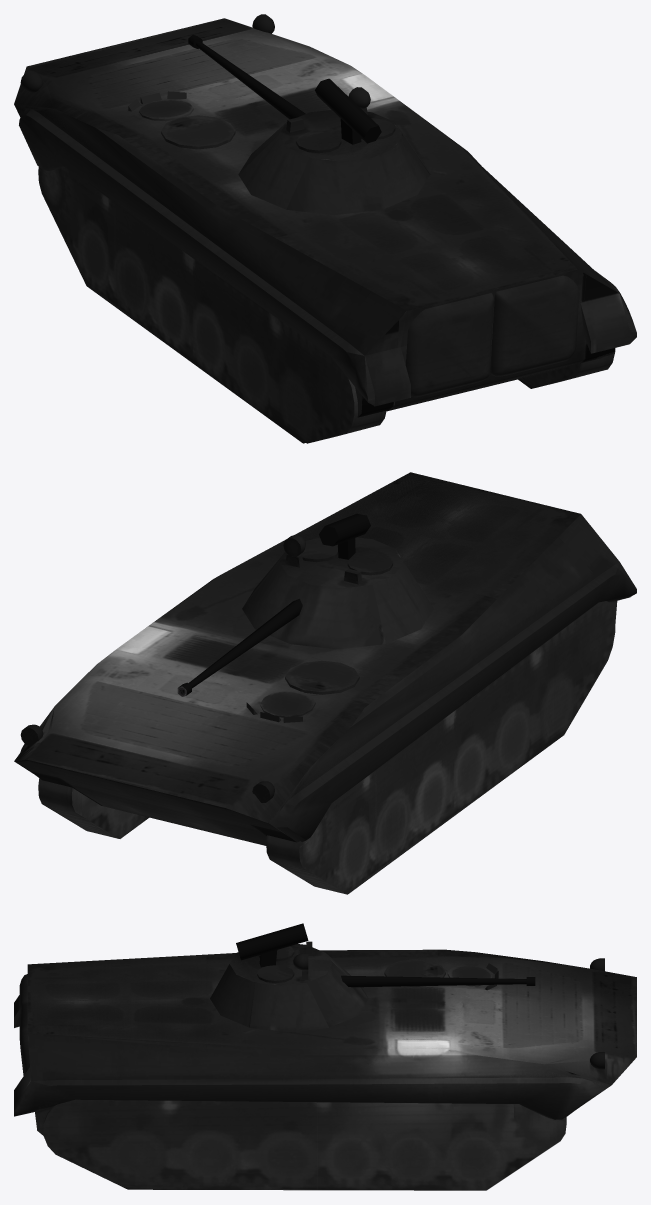
File: BMP-2_Graylevel.dae
The picture shows the model from 3 angles, top to bottom: view 1: azimuth 30°, elevation 25°; view 2: azimuth 150°, elevation 25°; view 3: azimuth 270°, elevation 25°; orthographic projection. The views are drawn at different scales.
Visible parts, largest first — view 1: hull, lft_cleat_6, hull_11, hull_19, turret_4, aft_door_01, aft_door_02, commander_coupola, aft_door_3, turret_8, agtm, aft_door_2 (+4 smaller); view 2: hull, lft_cleat_6, hull_11, turret_4, hull_19, rgt_cleat, commander_coupola, barrel_8, driver_coupola_1, agtm, lft_cleat_hi, rgt_cleat_4 (+4 smaller); view 3: hull, rgt_cleat_4, hull_11, hull_19, turret_4, barrel_8, agtm, commander_coupola, turret_8, aft_door_02, driver_coupola_27, driver_coupola_1.
Part boxes in pixels (x1,y1,x2,y2): hull: [14, 18, 636, 406]; lft_cleat_6: [38, 167, 382, 443]; hull_11: [14, 22, 614, 417]; hull_19: [213, 165, 619, 417]; turret_4: [238, 110, 430, 215]; aft_door_01: [405, 293, 494, 397]; aft_door_02: [490, 275, 579, 376]; commander_coupola: [161, 115, 235, 149]; aft_door_3: [511, 293, 573, 352]; turret_8: [280, 112, 402, 157]; agtm: [315, 78, 381, 143]; aft_door_2: [420, 311, 487, 385]; hull: [20, 472, 636, 842]; lft_cleat_6: [273, 601, 615, 894]; hull_11: [14, 473, 630, 845]; turret_4: [242, 537, 433, 649]; hull_19: [15, 514, 619, 837]; rgt_cleat: [42, 781, 149, 838]; commander_coupola: [285, 660, 359, 694]; barrel_8: [188, 598, 302, 688]; driver_coupola_1: [260, 690, 313, 717]; agtm: [319, 513, 370, 546]; lft_cleat_hi: [266, 835, 342, 893]; rgt_cleat_4: [38, 778, 114, 837]; hull: [14, 949, 636, 1119]; rgt_cleat_4: [43, 1099, 566, 1190]; hull_11: [14, 950, 636, 1135]; hull_19: [27, 1033, 608, 1119]; turret_4: [210, 944, 368, 1032]; barrel_8: [341, 975, 526, 987]; agtm: [236, 923, 308, 960]; commander_coupola: [384, 959, 445, 987]; turret_8: [230, 950, 330, 982]; aft_door_02: [19, 1003, 29, 1075]; driver_coupola_27: [257, 965, 294, 983]; driver_coupola_1: [448, 966, 492, 986].
Size of the model in its own units: 2.74 by 6.64 by 2.49.
3 materials, 3 textured.
